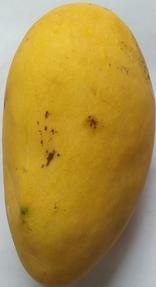Ripe: (1, 1, 156, 287)
